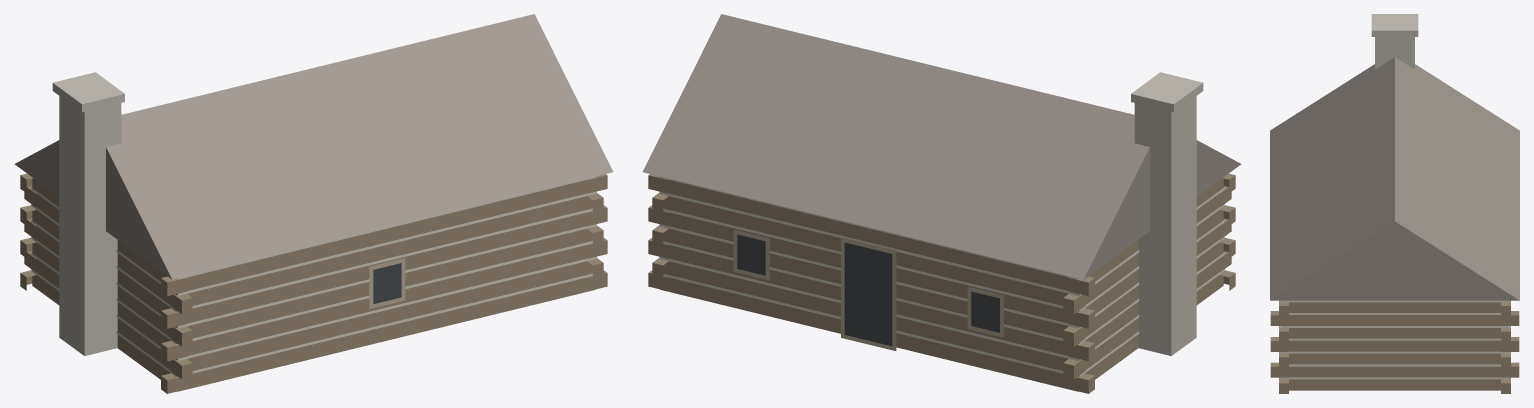
Rendered from madore_beaubien_house__log_1831.glb.
3 views of the same model, side by side, from view 1: azimuth 30°, elevation 25°; view 2: azimuth 150°, elevation 25°; view 3: azimuth 270°, elevation 25° (orthographic). The views are drawn at different scales.
Parts seen in each view (by area): view 1: madore_beaubien_house__log_1831; view 2: madore_beaubien_house__log_1831; view 3: madore_beaubien_house__log_1831.
Part boxes in pixels (box(x1,y1,x2,y2)): madore_beaubien_house__log_1831: box(14, 14, 613, 393); madore_beaubien_house__log_1831: box(642, 14, 1241, 393); madore_beaubien_house__log_1831: box(1270, 14, 1519, 393).
Size of the model in its own units: 10.21 by 5.38 by 5.99.
